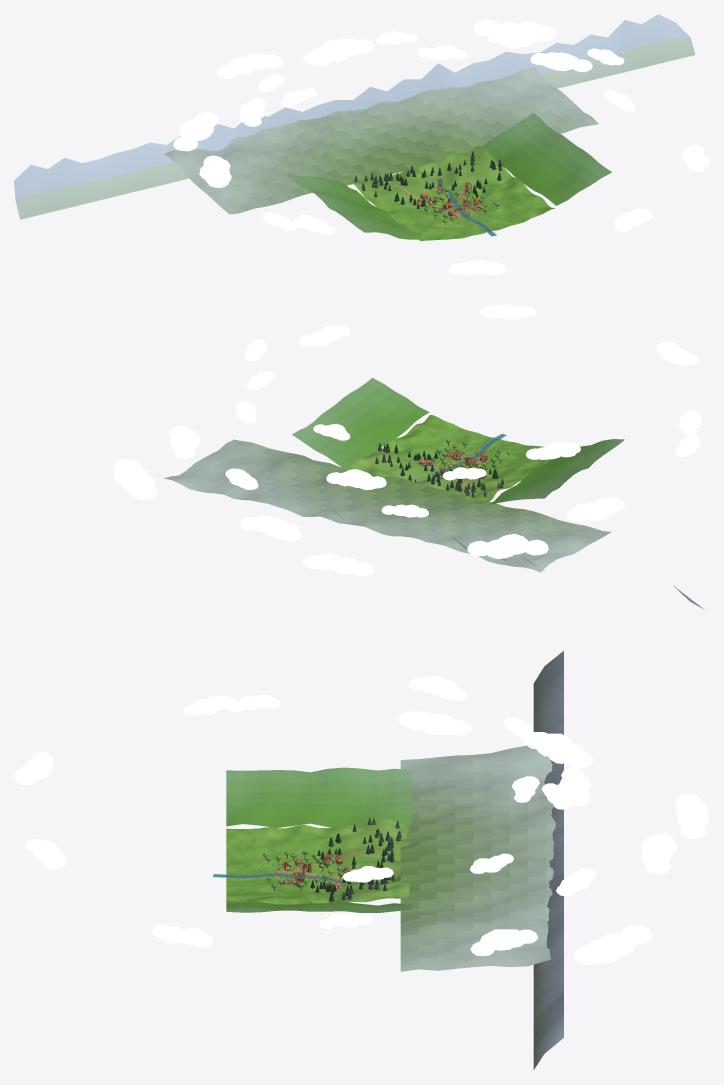
Rendered from village_complete.glb.
3 renders of one model, top to bottom at view 1: azimuth 30°, elevation 25°; view 2: azimuth 150°, elevation 25°; view 3: azimuth 270°, elevation 25°, orthographic. The views are drawn at different scales.
Parts seen in each view (by area): view 1: TERRAIN_FarHills, EXP_Sky_Clouds, TERRAIN_Ground, VEG_Trees_Far; view 2: TERRAIN_FarHills, EXP_Sky_Clouds, TERRAIN_Ground, VEG_Trees_Far; view 3: TERRAIN_FarHills, EXP_Sky_Clouds, TERRAIN_Ground, VEG_Trees_Far.
Part boxes in pixels (x1,y1,x2,y2): TERRAIN_FarHills: [14, 14, 695, 239]; EXP_Sky_Clouds: [173, 19, 709, 275]; TERRAIN_Ground: [343, 145, 555, 241]; VEG_Trees_Far: [354, 151, 502, 208]; TERRAIN_FarHills: [164, 378, 704, 609]; EXP_Sky_Clouds: [112, 304, 701, 576]; TERRAIN_Ground: [350, 415, 549, 501]; VEG_Trees_Far: [375, 442, 504, 497]; TERRAIN_FarHills: [226, 651, 563, 1069]; EXP_Sky_Clouds: [14, 676, 709, 964]; TERRAIN_Ground: [226, 819, 409, 904]; VEG_Trees_Far: [310, 817, 401, 902].
Size of the model in its own units: 840 by 118 by 639.
Materials: 15 (6 with a texture image).
